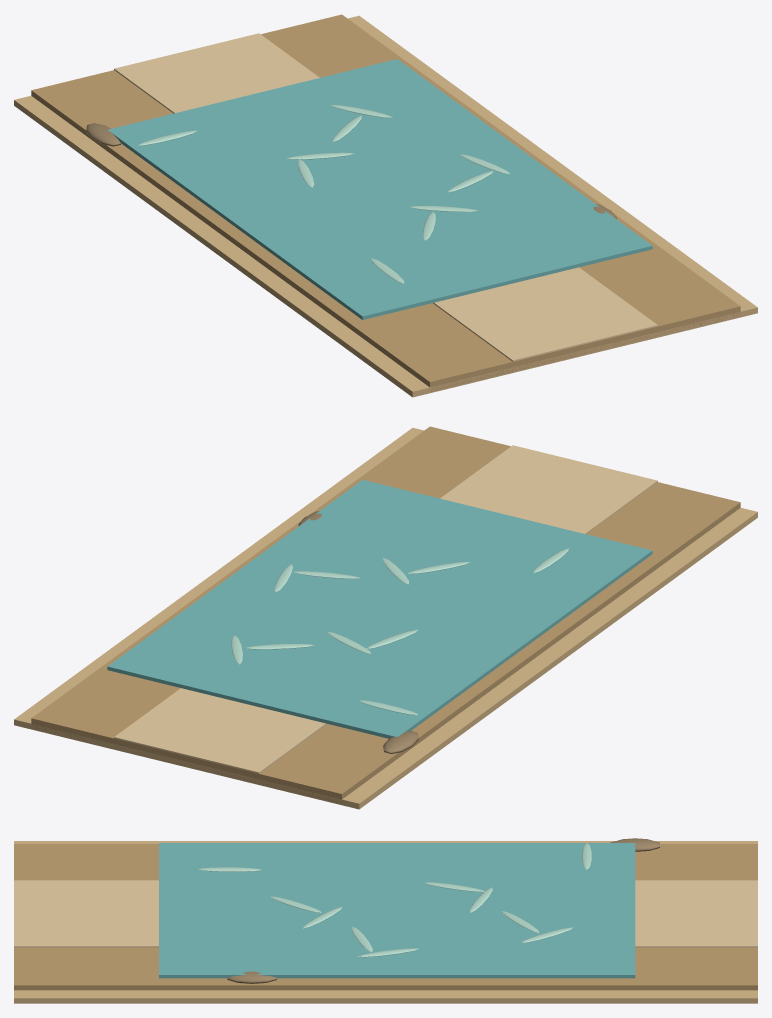
File: flooded-road.glb
3 views of the same model, one above another, from view 1: azimuth 30°, elevation 25°; view 2: azimuth 150°, elevation 25°; view 3: azimuth 270°, elevation 25° (orthographic). The views are drawn at different scales.
Visible parts, largest first — view 1: flooded-road_puddle, flooded-road_dirt, flooded-road_dirtLight, flooded-road_dirtEdge, flooded-road_puddleLight, flooded-road_mud; view 2: flooded-road_puddle, flooded-road_dirt, flooded-road_dirtLight, flooded-road_dirtEdge, flooded-road_puddleLight, flooded-road_mud; view 3: flooded-road_puddle, flooded-road_dirt, flooded-road_dirtLight, flooded-road_dirtEdge, flooded-road_puddleLight, flooded-road_mud.
Part boxes in pixels (x1=…): flooded-road_puddle: x1=108, y1=59, x2=652, y2=319; flooded-road_dirt: x1=31, y1=14, x2=740, y2=391; flooded-road_dirtLight: x1=114, y1=33, x2=657, y2=361; flooded-road_dirtEdge: x1=14, y1=15, x2=757, y2=397; flooded-road_puddleLight: x1=138, y1=105, x2=509, y2=283; flooded-road_mud: x1=86, y1=123, x2=616, y2=219; flooded-road_puddle: x1=107, y1=479, x2=652, y2=738; flooded-road_dirt: x1=31, y1=426, x2=740, y2=803; flooded-road_dirtLight: x1=114, y1=445, x2=657, y2=773; flooded-road_dirtEdge: x1=14, y1=427, x2=757, y2=809; flooded-road_puddleLight: x1=231, y1=548, x2=568, y2=715; flooded-road_mud: x1=298, y1=511, x2=418, y2=753; flooded-road_puddle: x1=159, y1=843, x2=635, y2=978; flooded-road_dirt: x1=14, y1=844, x2=757, y2=990; flooded-road_dirtLight: x1=14, y1=880, x2=757, y2=947; flooded-road_dirtEdge: x1=14, y1=841, x2=757, y2=1003; flooded-road_puddleLight: x1=198, y1=843, x2=591, y2=957; flooded-road_mud: x1=227, y1=838, x2=659, y2=983.
Size of the model in its own units: 1 by 0.0573 by 2.
